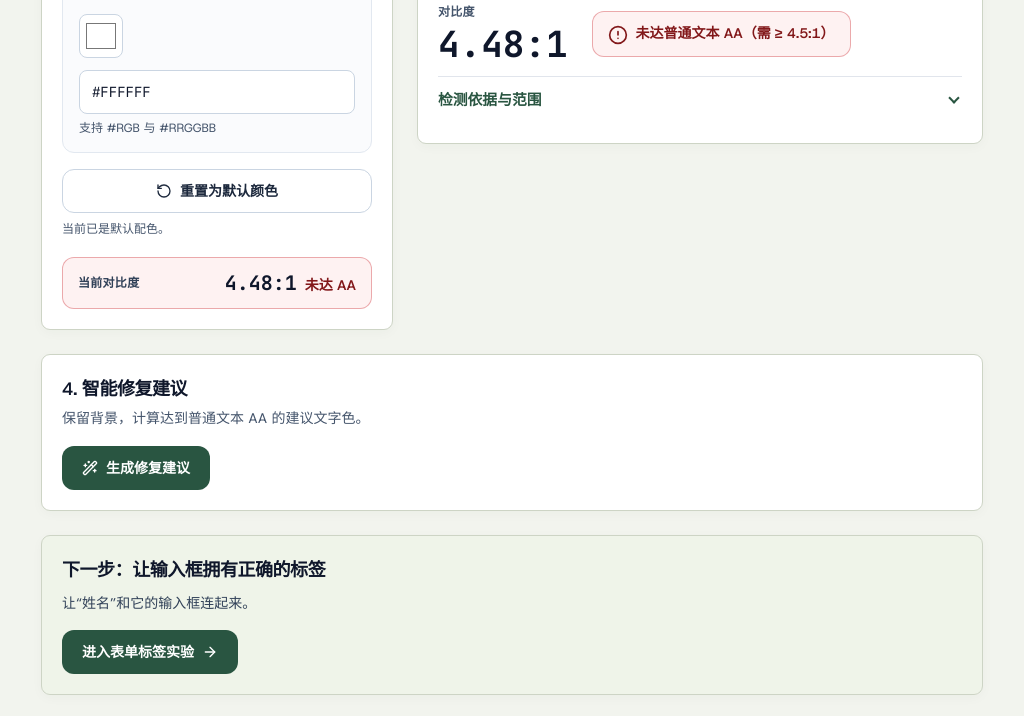
Test: ContrastLabPage · 修复交互（组件接线层） › #7 应用修复后，输入框 / 取色器 / 预览 / 检测结果同步为同一个颜色
(page scrolled)
Click the button "生成修复建议".
click(136, 468)  # box [62,446,210,490]
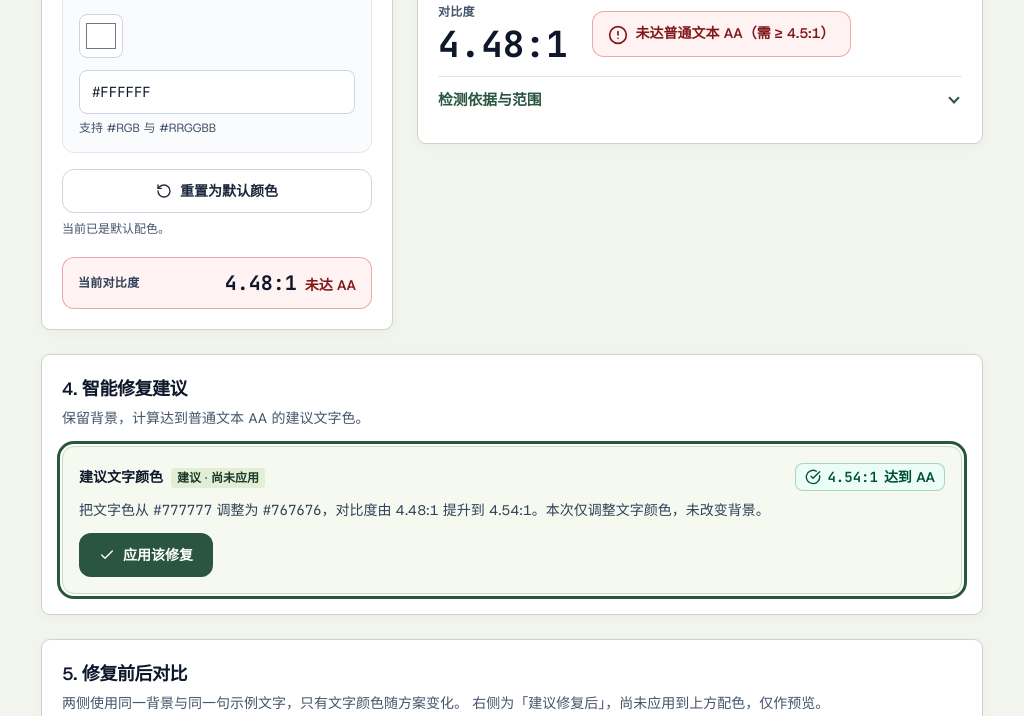
Expected: the button "应用该修复" is shown
Expected: the text "建议 · 尚未应用" is shown, [171,468,265,488]
Click the button "应用该修复".
click(146, 556)  # box [79,534,213,578]
(page scrolled)
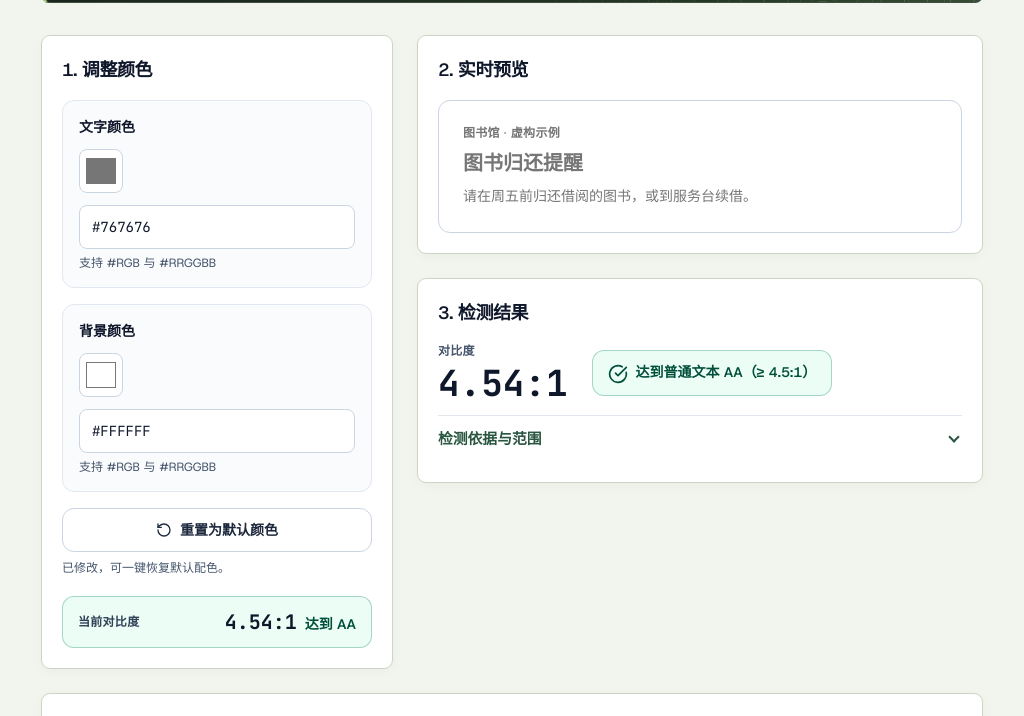
Expected: the message "当前对比度 4.54:1 达到 AA" is shown, [62,596,372,648]
Expected: the element showing "3. 检测结果 对比度 4.54:1 达到普通文本 AA（≥ 4.5:1） 检测依据与范围" is shown, [417,278,983,483]
Expected: the text "建议 · 尚未应用" is gone
